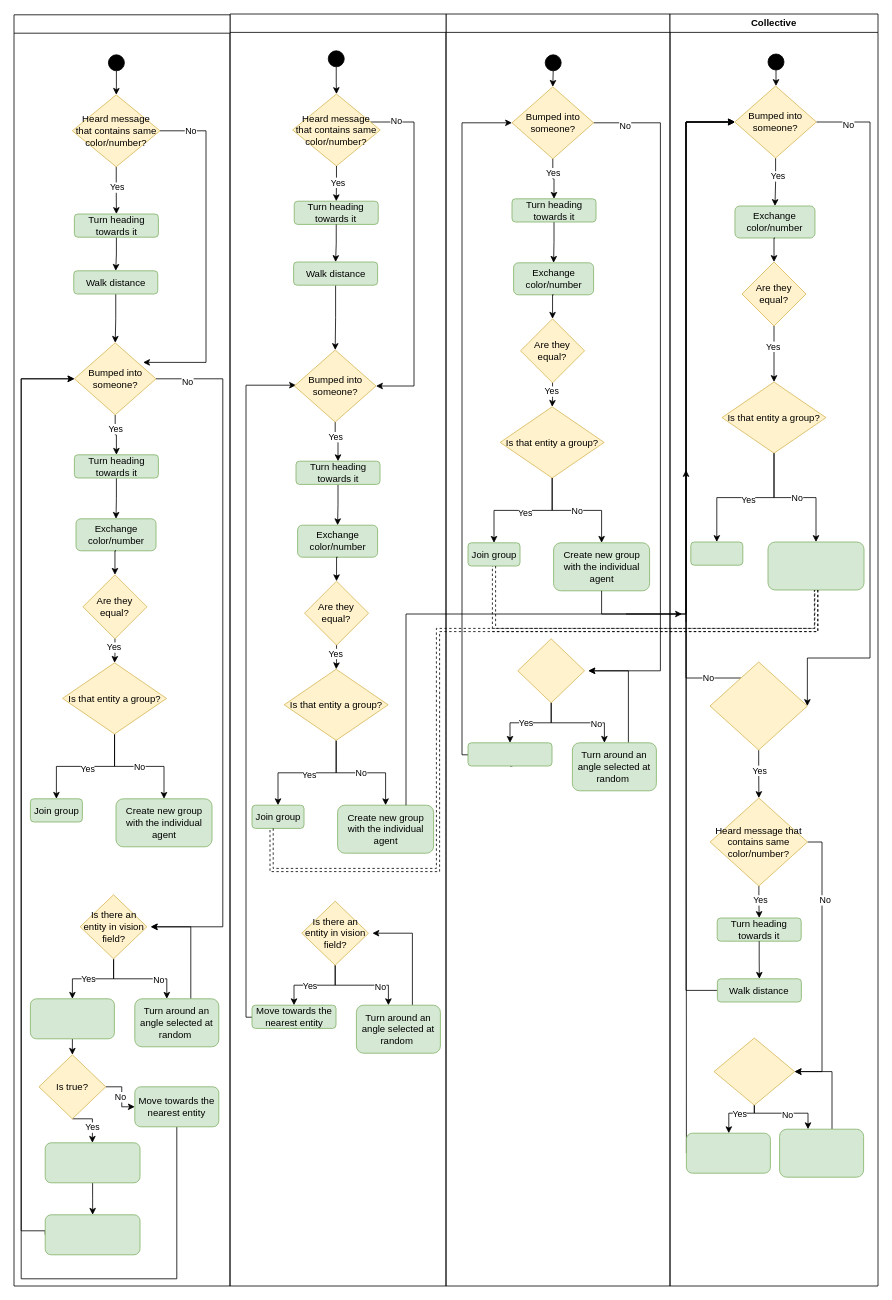
Image size: 892x1300. Some labels were removed from this diagram. Each missing label, with the box of its shape:
Chose randomly between True/False: (30, 998, 114, 1039)
Follower: (445, 13, 670, 1286)
Is the number of people on the group less than a specified number?: (709, 661, 807, 750)
Is there a group in the vision field of the leader?: (713, 1037, 795, 1105)
Is there a group in vision field?: (517, 638, 585, 703)
Leader: (13, 14, 230, 1286)
Leader turns around an angle selected at random: (779, 1128, 864, 1177)
Merge groups: (690, 541, 743, 565)
Move towards the nearest group: (467, 742, 552, 766)
Move towards the nearest group to the leader: (686, 1132, 770, 1173)
Participant: (229, 13, 446, 1286)
Send global message comunicating color/number: (44, 1142, 140, 1183)
Wait some random time: (44, 1214, 140, 1255)
Welcome agent: (767, 541, 864, 590)
